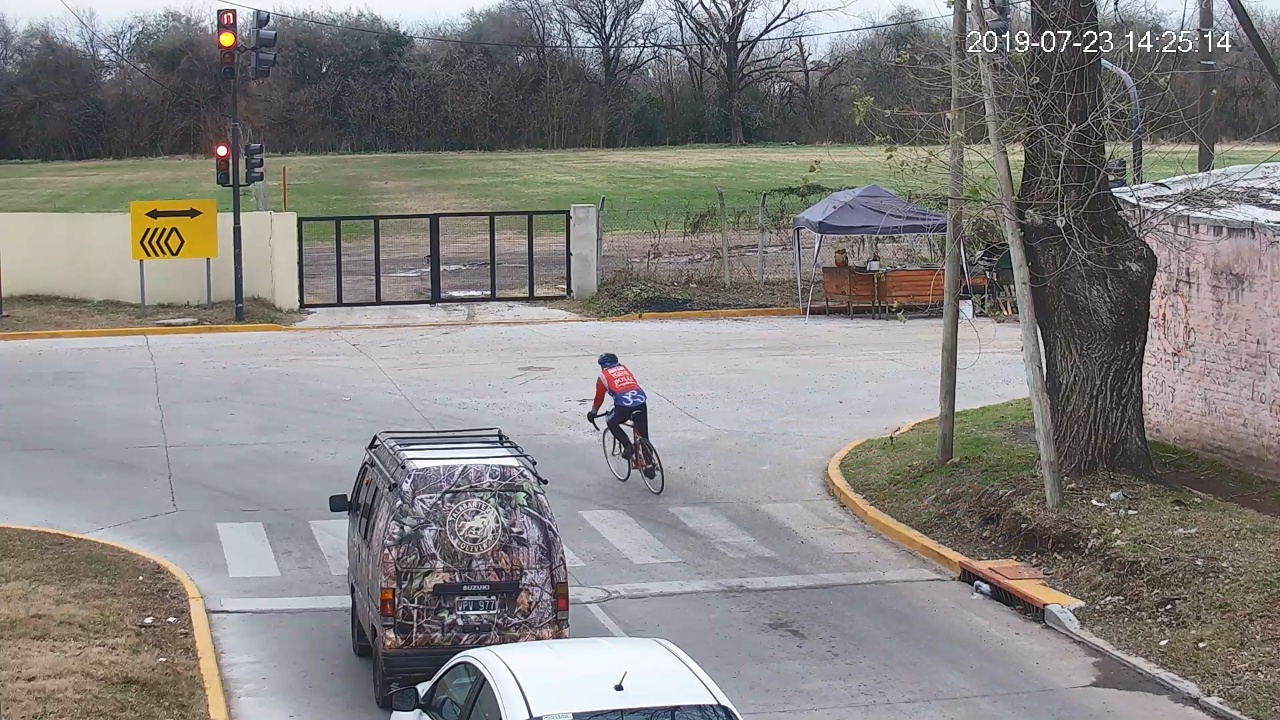bicycle: (587, 352, 665, 495)
traffic light: (218, 31, 237, 80), (216, 143, 230, 184)
